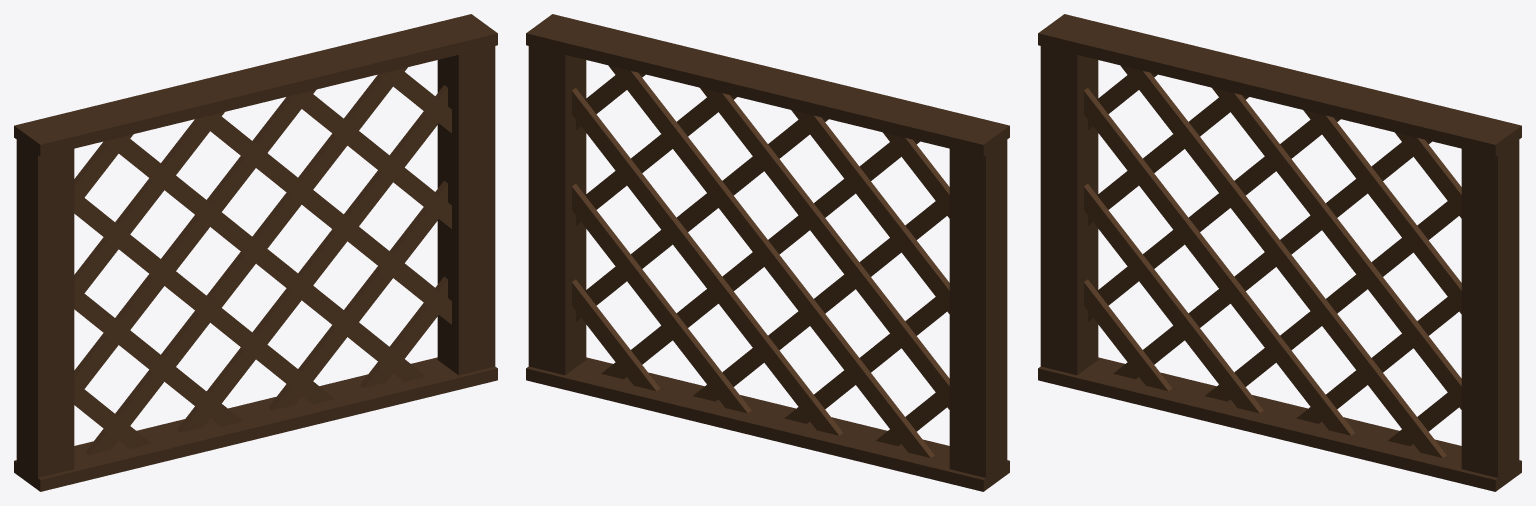
Rendered from Fence_14_Dark_Brown.fbx.
The picture shows the model from 3 angles, left to right: view 1: azimuth 30°, elevation 25°; view 2: azimuth 150°, elevation 25°; view 3: azimuth 330°, elevation 25°; orthographic projection.
Visible parts, largest first — view 1: Fence_14_Dark_Brown; view 2: Fence_14_Dark_Brown; view 3: Fence_14_Dark_Brown.
Part boxes in pixels (<box>): Fence_14_Dark_Brown: <box>14,14,497,491</box>; Fence_14_Dark_Brown: <box>526,14,1009,491</box>; Fence_14_Dark_Brown: <box>1038,14,1521,491</box>.
Size of the model in its own units: 200 by 145 by 20.
